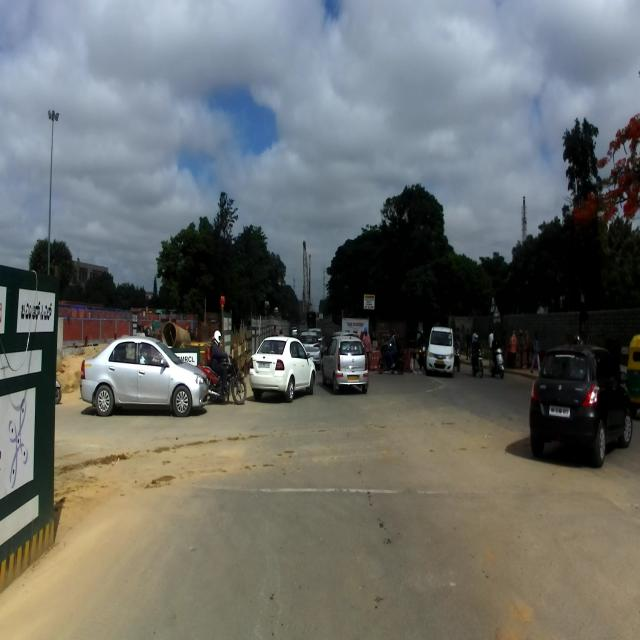car: (528, 340, 632, 468), (79, 334, 209, 416), (248, 335, 316, 402), (321, 335, 368, 393), (425, 326, 455, 377)
motorcycle: (197, 345, 247, 405)
scooter: (488, 348, 504, 379)
